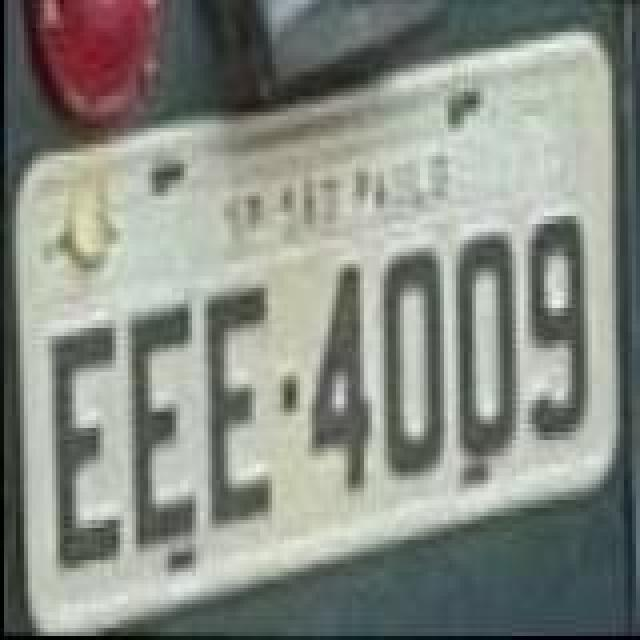4: (308, 258, 376, 490)
9: (522, 212, 594, 444)
E: (46, 320, 122, 576), (126, 304, 202, 556), (198, 278, 274, 530)
O: (380, 252, 448, 484), (456, 236, 524, 468)
